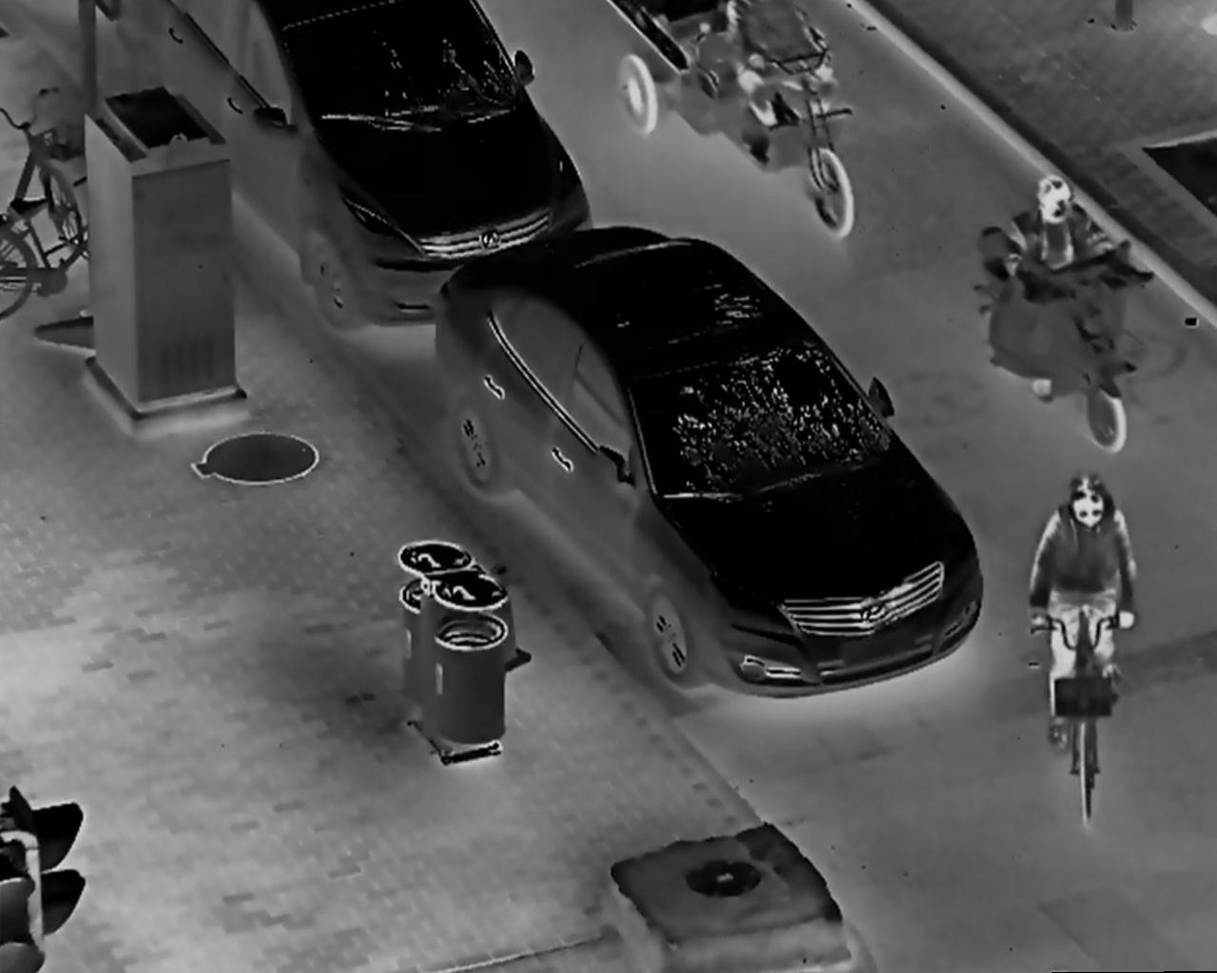person: (1028, 471, 1146, 756), (991, 173, 1130, 403)
